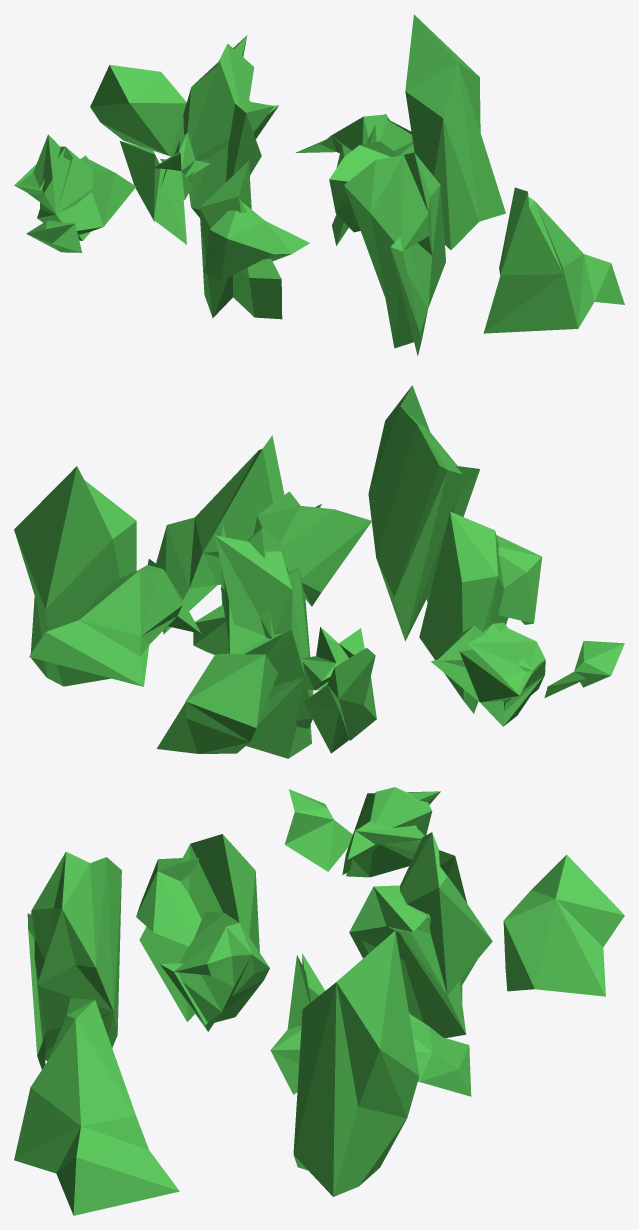
Rendered from Terrain_SmallCluster.fbx.
3 views of the same model, one above another, from view 1: azimuth 30°, elevation 25°; view 2: azimuth 150°, elevation 25°; view 3: azimuth 270°, elevation 25° (orthographic). The views are drawn at different scales.
Visible parts, largest first — view 1: SmallCluster6; view 2: SmallCluster6; view 3: SmallCluster6.
Boxes of the visible parts, box(x1,y1,x2,y2) form: SmallCluster6: box(14, 14, 624, 356); SmallCluster6: box(14, 385, 624, 758); SmallCluster6: box(14, 787, 624, 1215).
Size of the model in its own units: 17.94 by 7.48 by 16.51.
